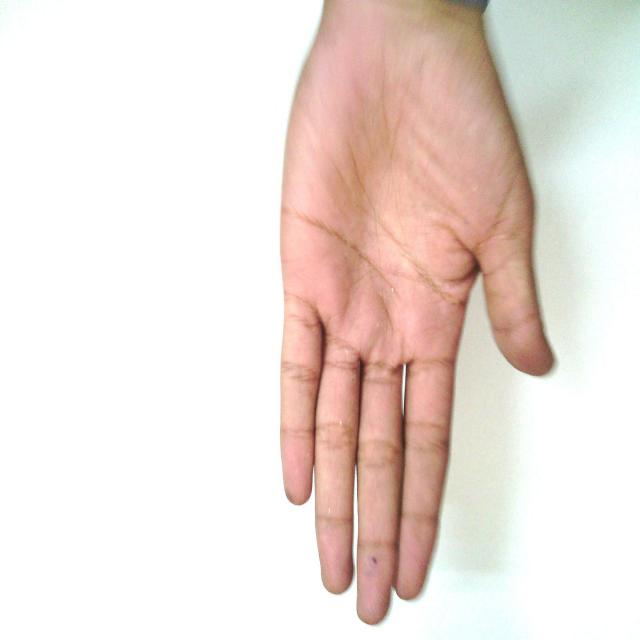others: (193, 1, 582, 624)
